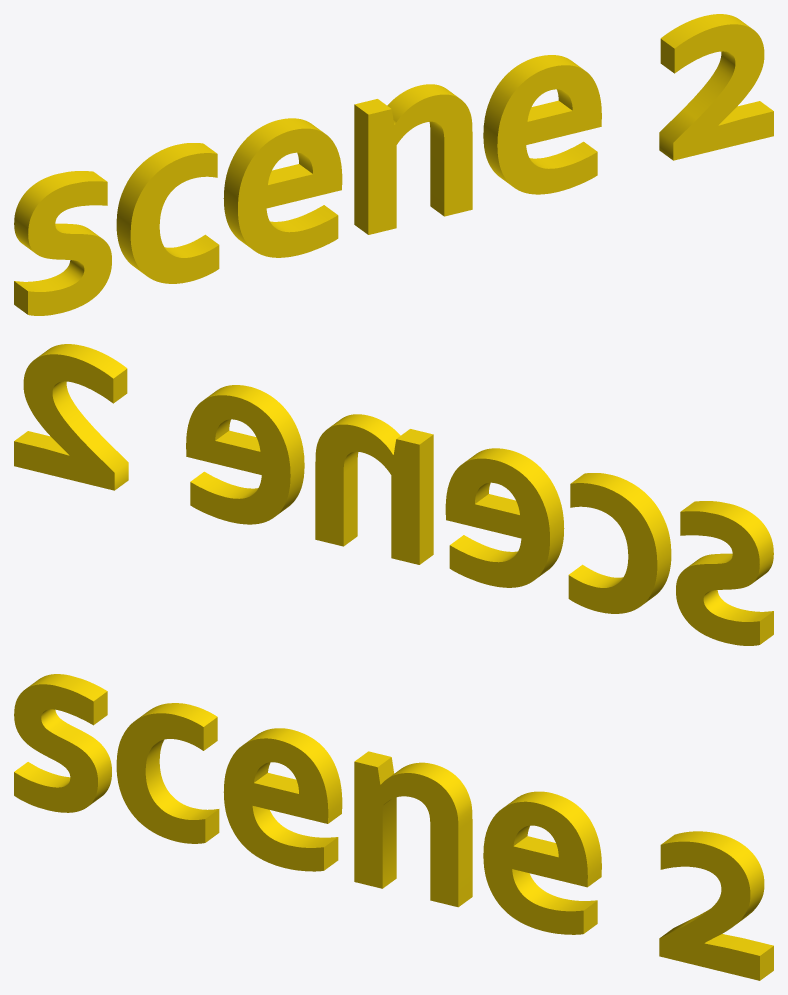
3 views of the same model, one above another, from view 1: azimuth 30°, elevation 25°; view 2: azimuth 150°, elevation 25°; view 3: azimuth 330°, elevation 25° (orthographic).
Visible parts, largest first — view 1: Polygon_5, Polygon_3, Polygon_4, Polygon, Polygon_2, Polygon_6; view 2: Polygon_5, Polygon_3, Polygon_4, Polygon, Polygon_2, Polygon_6; view 3: Polygon_5, Polygon_3, Polygon_4, Polygon_2, Polygon, Polygon_6.
Boxes of the visible parts, x1,y1,x2,y2 form: Polygon_5: [223, 118, 342, 257]; Polygon_3: [483, 55, 601, 194]; Polygon_4: [354, 84, 472, 234]; Polygon: [659, 14, 773, 160]; Polygon_2: [14, 171, 111, 315]; Polygon_6: [116, 143, 219, 283]; Polygon_5: [445, 448, 564, 587]; Polygon_3: [186, 385, 304, 524]; Polygon_4: [315, 414, 433, 564]; Polygon: [14, 344, 128, 490]; Polygon_2: [676, 501, 773, 645]; Polygon_6: [568, 473, 671, 613]; Polygon_5: [223, 728, 342, 871]; Polygon_3: [483, 791, 601, 934]; Polygon_4: [354, 751, 472, 907]; Polygon_2: [14, 674, 111, 812]; Polygon: [659, 831, 773, 980]; Polygon_6: [116, 703, 219, 843].
Bounding box in the file's own units: 613 × 99.41 × 20.
